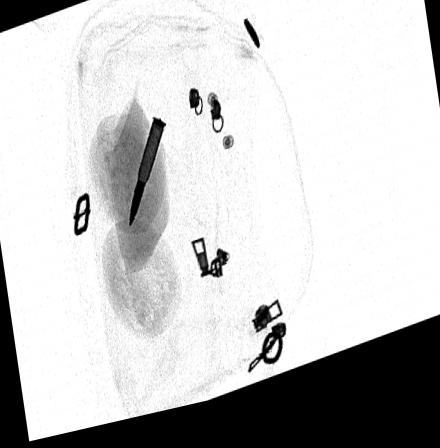Bullet: (128, 123, 166, 237)
